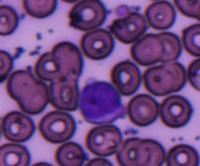L: (78, 78, 125, 124)
